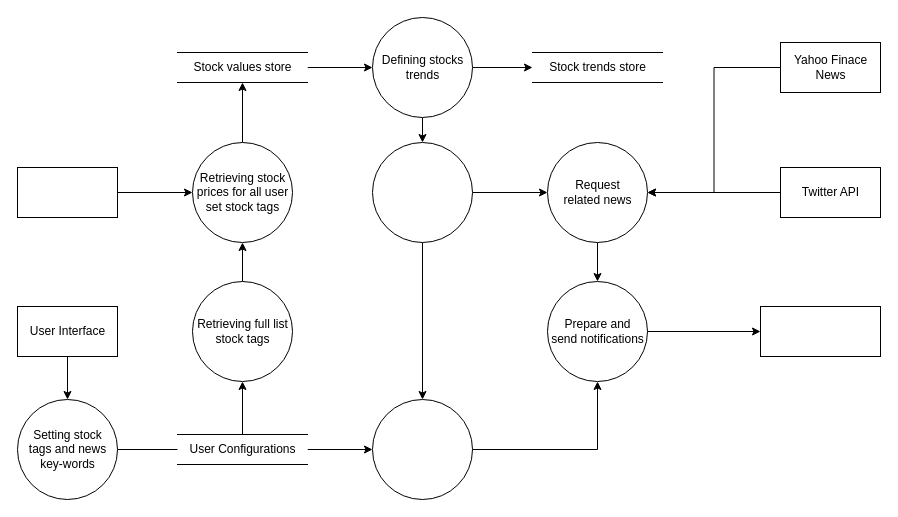
The diagram is 898 pixels wide and 517 high, and some of its shapes have lost their labels. Each missing label, with the centre of its shape:
Detecting trend changes: the point at 422,192
Geting Users and their related key-words: the point at 422,449
User Telegram notification: the point at 820,331
Yahoo Stock API: the point at 67,192
